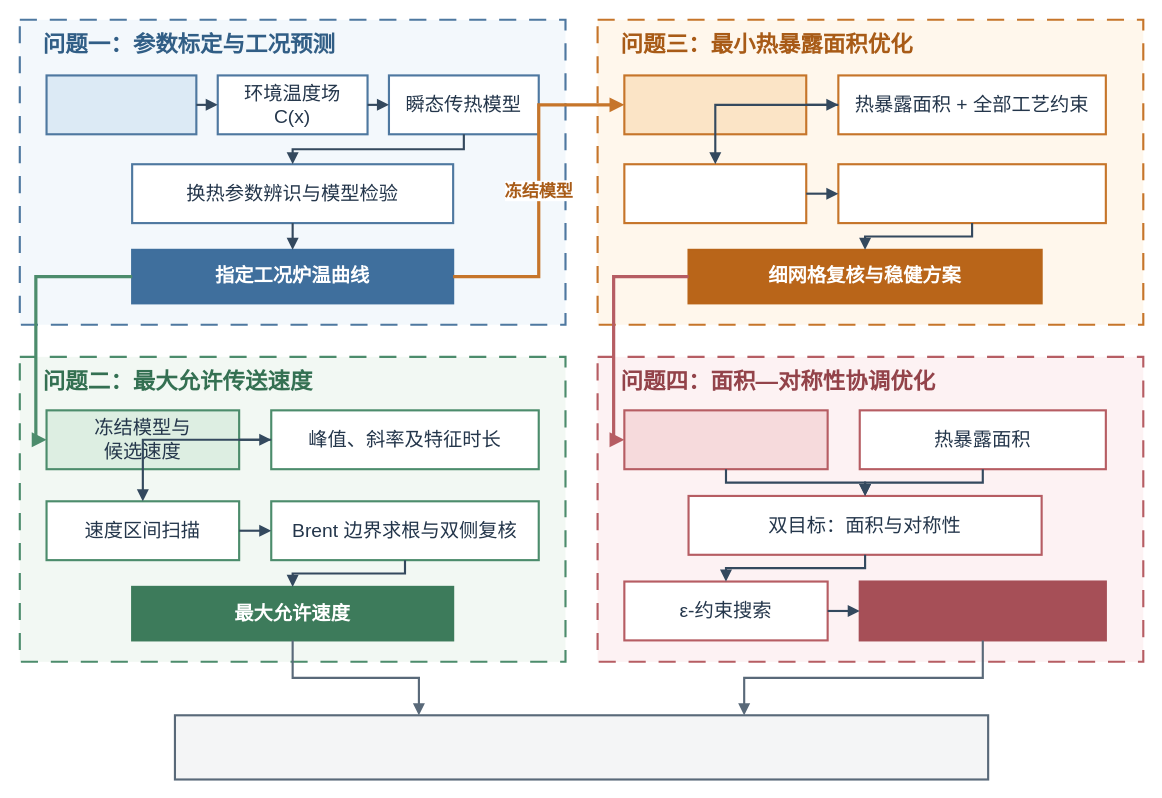
The diagram is 1162 pixels wide and 798 high, and some of its shapes have lost their labels. The centre of each missing label's shape, as x and y in pixels:
COBYLA 边界精修: point 971,193
Pareto 前沿与方案选择: point 982,610
峰值镜像误差: point 725,439
差分进化 全局搜索: point 715,193
温区设定与 传送速度: point 715,104
统一复核与结果输出 时间步收敛 · 参数灵敏度 · GA/PSO 对照 · 约束回代: point 581,747
附件与 已知工况: point 121,104
